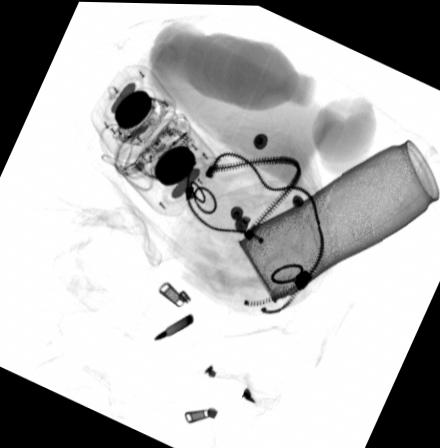Bullet: (149, 311, 196, 340)
